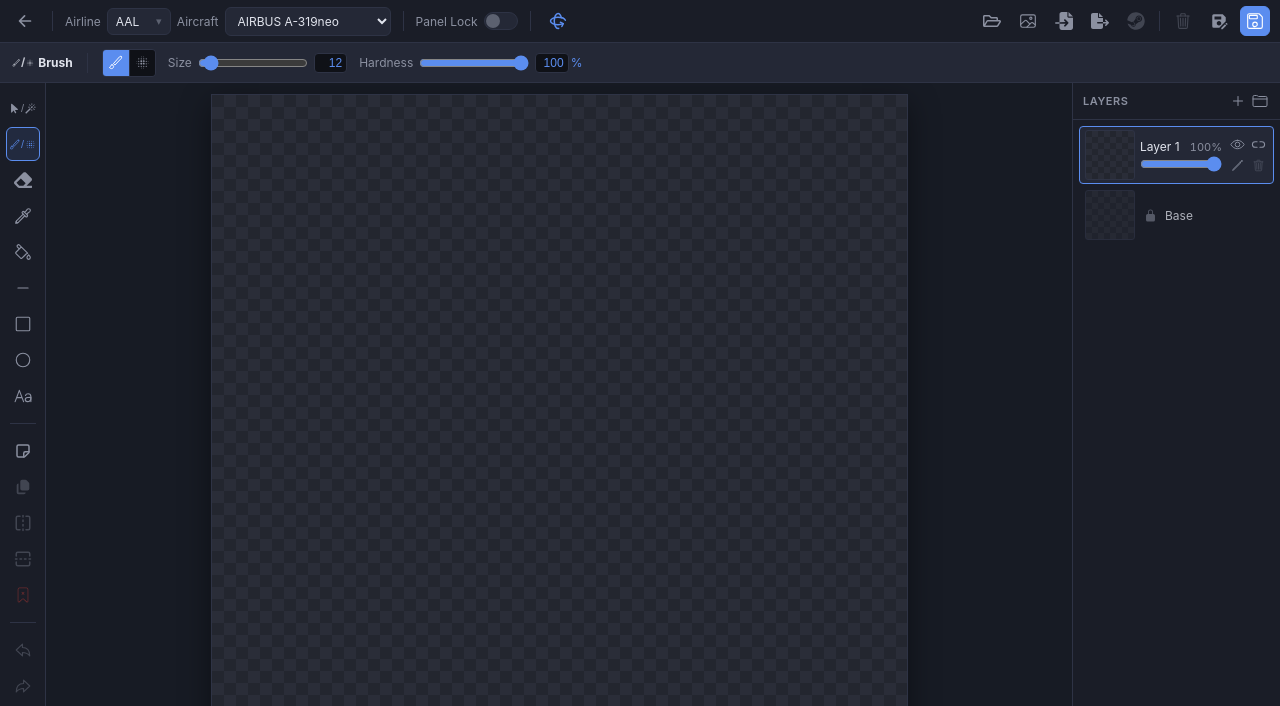
Test: CreateTab painter validation › shows mapped error toast on BAD_AIRLINE
The width and height of the screenshot is (1280, 706).
Replace the text in the dropdown with placeholder "CCA" with "CCA": (139, 21) 107,8 -> 171,34
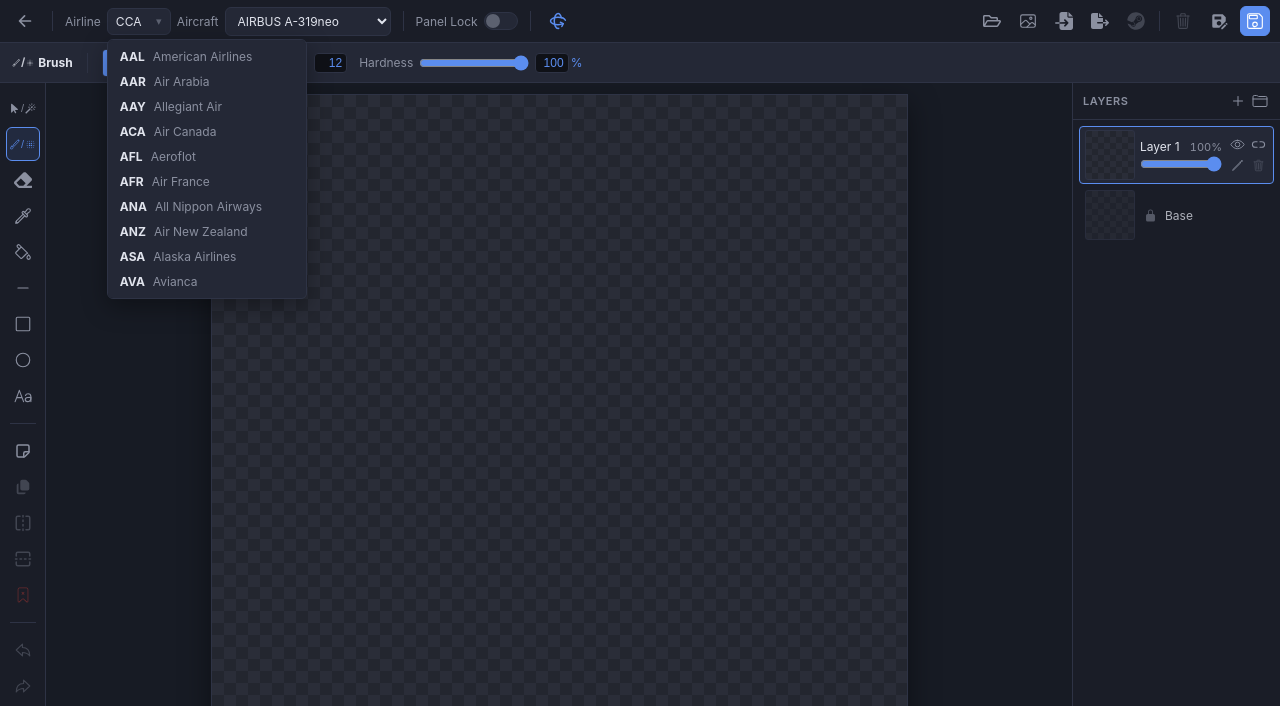
Select "AIRBUS A-320neo" in the dropdown labelled "Aircraft": (308, 21) 224,6 -> 390,36
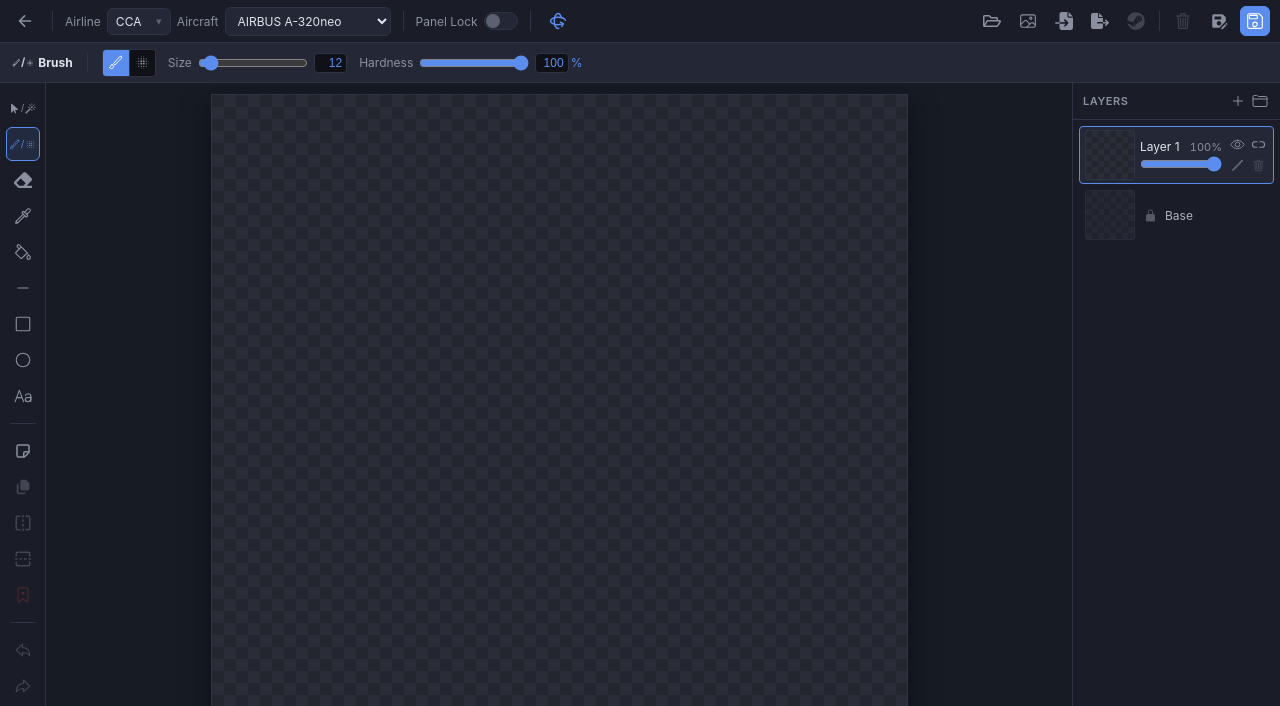
Click the button named "Save As": (1219, 21) 1204,6 -> 1234,36
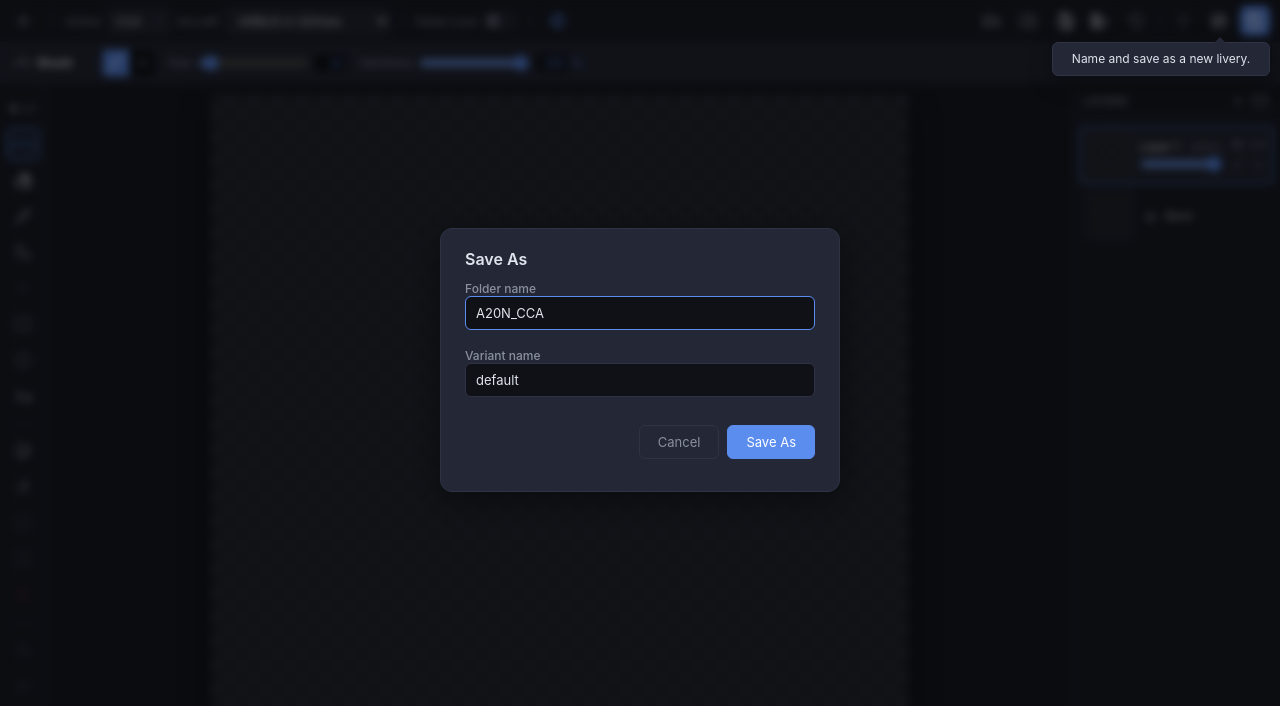
Check: the element with id "modal-box" is shown, box 440,228 -> 840,492
Click the button "Save As": (771, 442) 727,425 -> 815,459
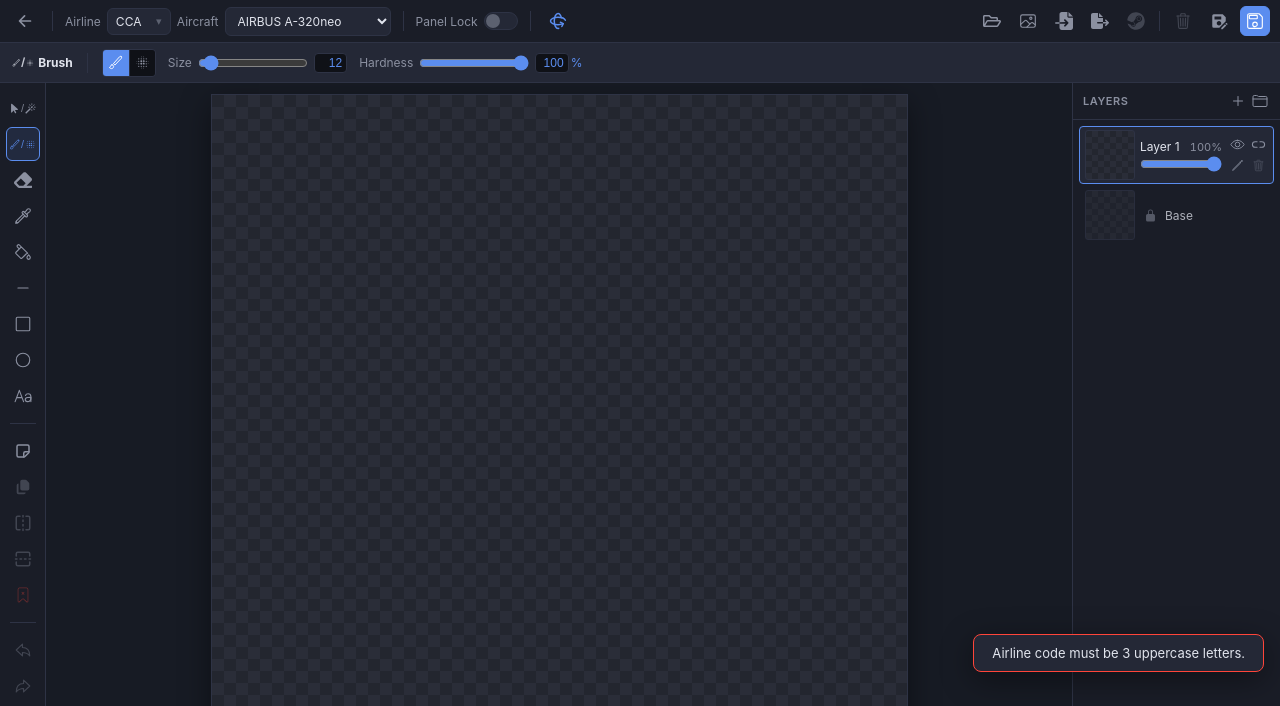
Check: the text "Airline code must be 3 uppercase letters." is shown, box 973,634 -> 1264,672
